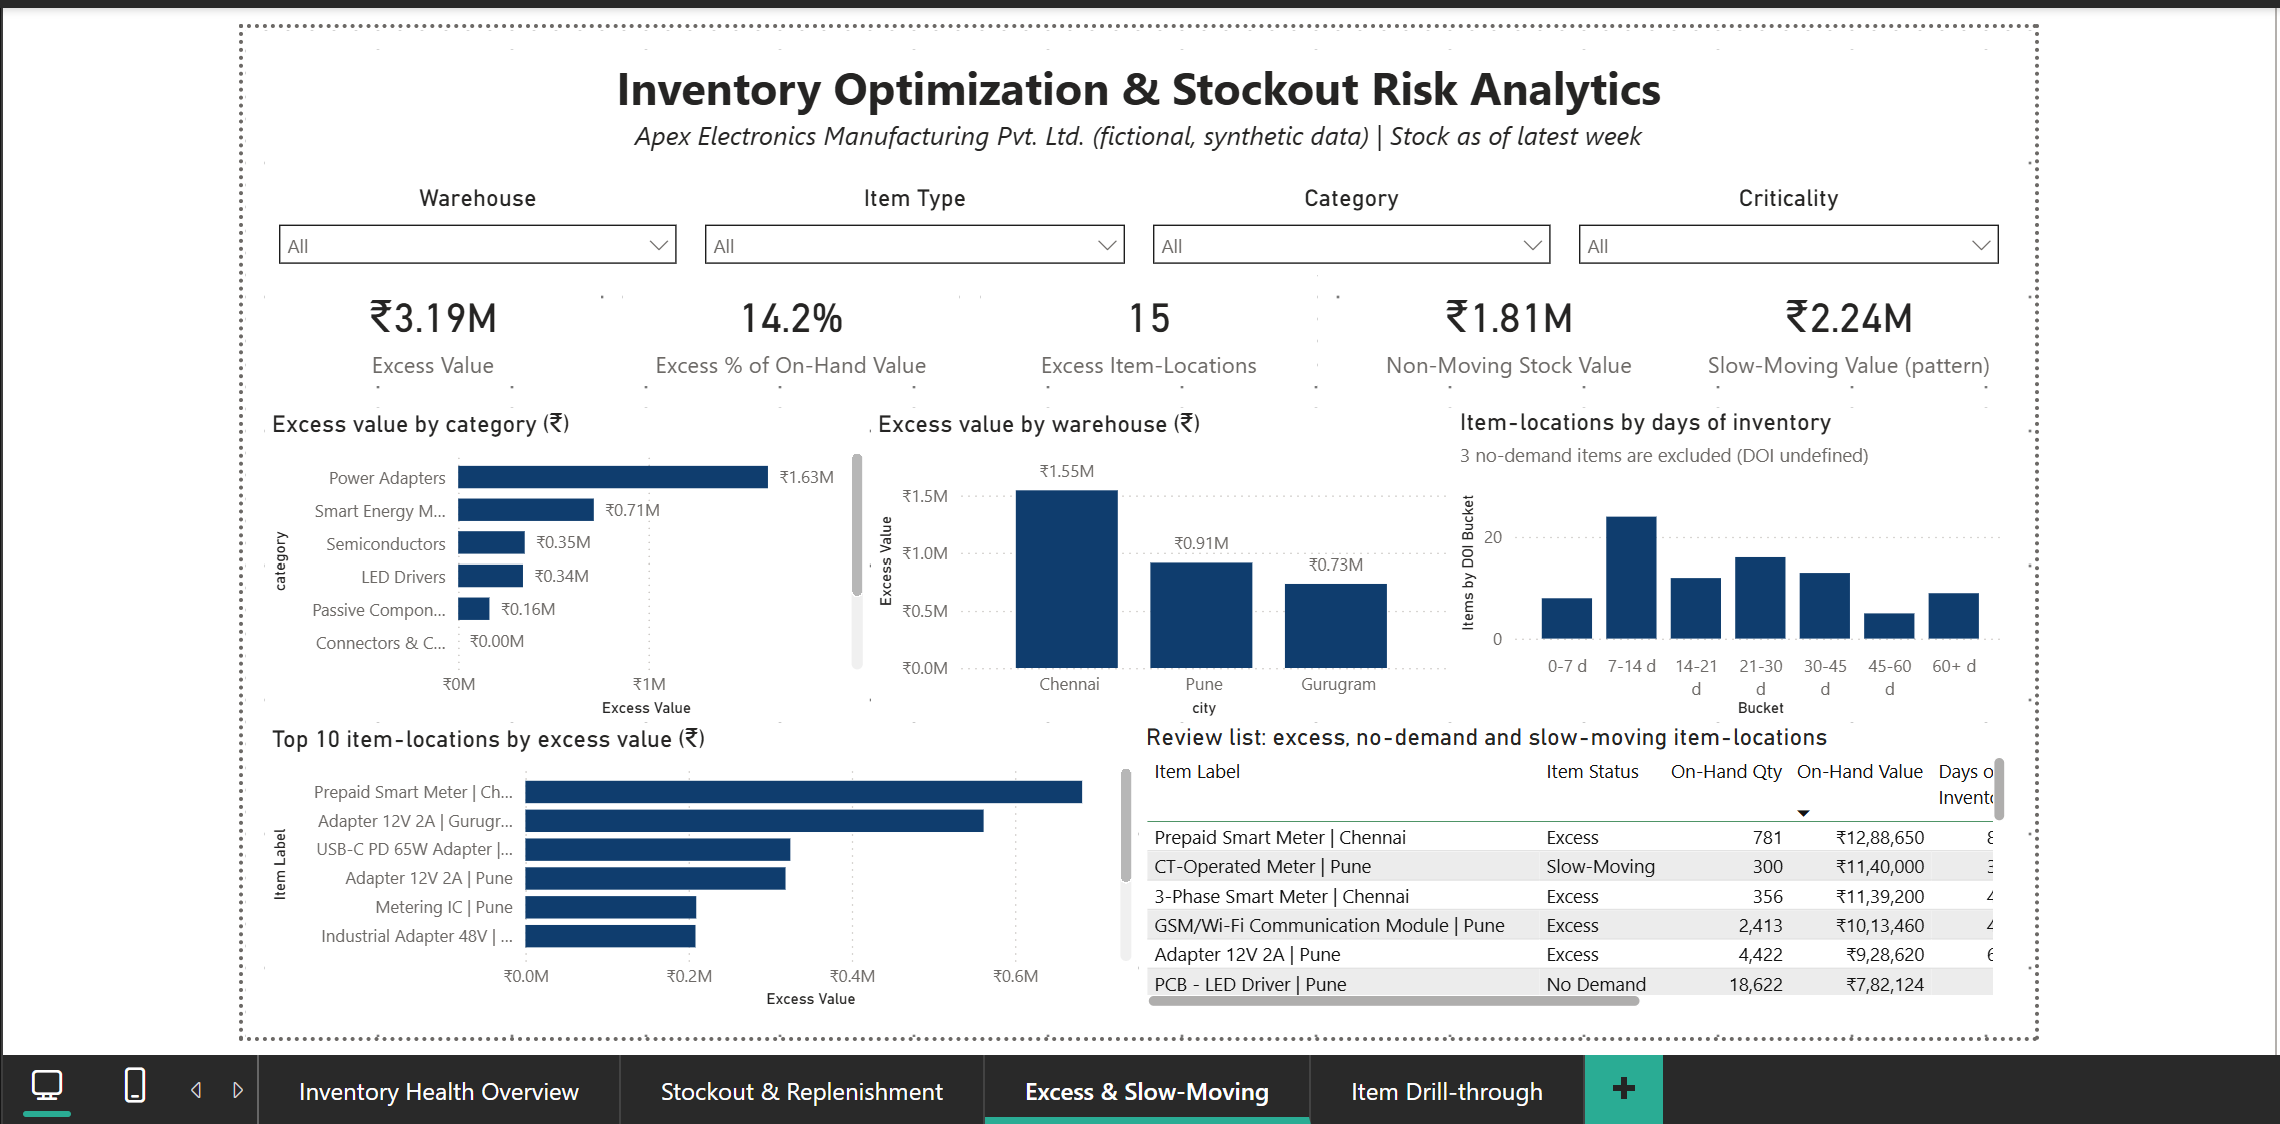

The page's visual inventory and layout, read from the dashboard file:
{"tool":"powerbi","page":{"name":"Excess & Slow-Moving","canvas":[1280,720],"ordinal":2},"visuals":[{"type":"group","id":"g1","title":"Group 2","box":[16,16,1248,161],"z":0},{"type":"textbox","box":[16,16,1248,96],"z":0,"group":"g1"},{"type":"card","fields":{"Values":["_Measures.Excess Value"]},"box":[16,176,240,80],"z":0,"group":"g2"},{"type":"slicer","title":"Item Type","fields":{"Values":["dim_item.item_type"]},"box":[320,112,320,65],"z":1000,"group":"g1"},{"type":"group","id":"g2","title":"Group 1","box":[16,176,1248,80],"z":1000},{"type":"card","fields":{"Values":["_Measures.Non-Moving Stock Value"]},"box":[784,176,240,80],"z":1000,"group":"g2"},{"type":"slicer","title":"Category","fields":{"Values":["dim_item.category"]},"box":[640,112,304,65],"z":2000,"group":"g1"},{"type":"card","fields":{"Values":["_Measures.Excess % of On-Hand Value"]},"box":[272,176,240,80],"z":2000,"group":"g2"},{"type":"clusteredBarChart","title":"Excess value by category (₹)","fields":{"Y":["_Measures.Excess Value"],"Category":["dim_item.category"]},"box":[16,272,432,224],"z":2000},{"type":"slicer","title":"Warehouse","fields":{"Values":["dim_warehouse.city"]},"box":[16,112,304,65],"z":3000,"group":"g1"},{"type":"card","fields":{"Values":["_Measures.Excess Item-Locations"]},"box":[528,176,240,80],"z":3000,"group":"g2"},{"type":"clusteredColumnChart","title":"Excess value by warehouse (₹)","fields":{"Y":["_Measures.Excess Value"],"Category":["dim_warehouse.city"]},"box":[448,272,416,224],"z":3000},{"type":"slicer","title":"Criticality","fields":{"Values":["dim_item.criticality"]},"box":[944,112,320,65],"z":4000,"group":"g1"},{"type":"card","fields":{"Values":["_Measures.Slow-Moving Value (pattern)"]},"box":[1028,176,240,80],"z":4000,"group":"g2"},{"type":"columnChart","title":"Item-locations by days of inventory ","fields":{"Category":["dim_doi_bucket.Bucket"],"Y":["_Measures.Items by DOI Bucket"]},"box":[864,272,400,224],"z":4000},{"type":"clusteredBarChart","title":"Top 10 item-locations by excess value (₹)","fields":{"Y":["_Measures.Excess Value"],"Category":["dim_item_location.Item Label"]},"box":[16,496,624,208],"z":5000},{"type":"tableEx","title":"Review list: excess, no-demand and slow-moving item-locations","fields":{"Values":["dim_item_location.Item Label","_Measures.Item Status","_Measures.On-Hand Qty","_Measures.On-Hand Value","_Measures.Days of Inventory","_Measures.Max Cover (days)","_Measures.Excess Qty","_Measures.Excess Value","_Measures.Recommended Action"]},"box":[640,496,624,208],"z":6000}]}

Visuals, with their boxes on the page's 1280x720 design canvas (x1, y1, x2, y2). These are canvas units, not pixel positions in the 2280x1124 screenshot, which may show the page scaled, cropped or inside an application window:
"Group 2" group: 16:16:1264:177
textbox: 16:16:1264:112
card - _Measures.Excess Value: 16:176:256:256
"Item Type" slicer: 320:112:640:177
"Group 1" group: 16:176:1264:256
card - _Measures.Non-Moving Stock Value: 784:176:1024:256
"Category" slicer: 640:112:944:177
card - _Measures.Excess % of On-Hand Value: 272:176:512:256
"Excess value by category (₹)" clusteredBarChart: 16:272:448:496
"Warehouse" slicer: 16:112:320:177
card - _Measures.Excess Item-Locations: 528:176:768:256
"Excess value by warehouse (₹)" clusteredColumnChart: 448:272:864:496
"Criticality" slicer: 944:112:1264:177
card - _Measures.Slow-Moving Value (pattern): 1028:176:1268:256
"Item-locations by days of inventory " columnChart: 864:272:1264:496
"Top 10 item-locations by excess value (₹)" clusteredBarChart: 16:496:640:704
"Review list: excess, no-demand and slow-moving item-locations" tableEx: 640:496:1264:704
